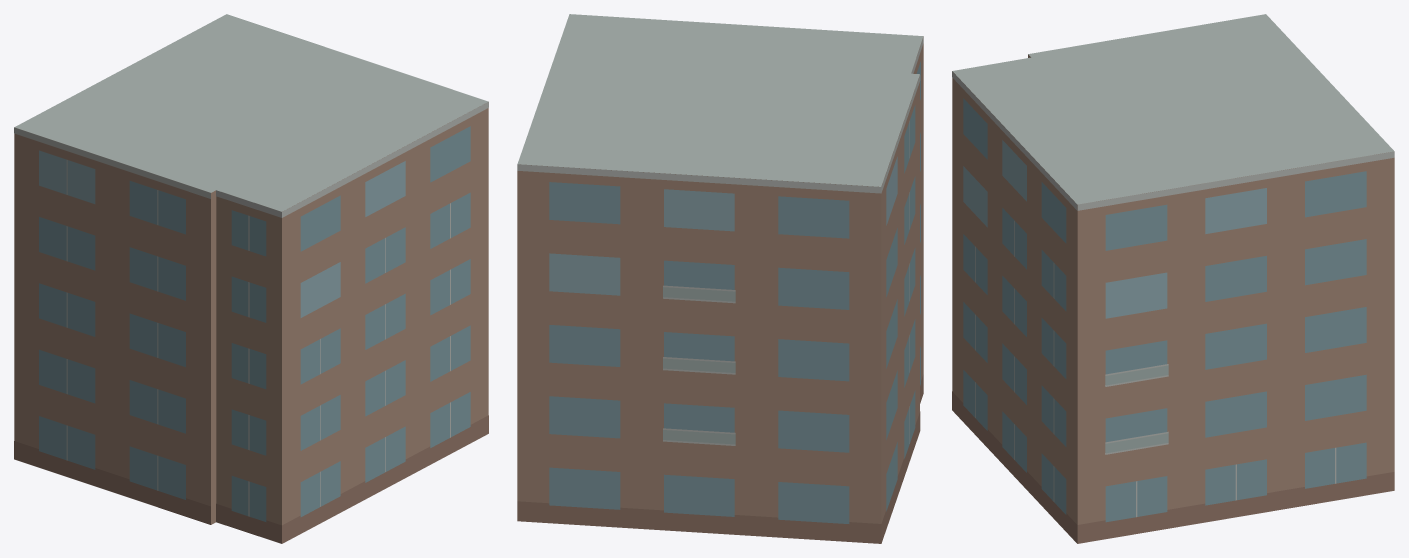
Rendered from survey-upis-32945383.glb.
3 views of the same model, side by side, from view 1: azimuth 30°, elevation 25°; view 2: azimuth 150°, elevation 25°; view 3: azimuth 270°, elevation 25° (orthographic). The views are drawn at different scales.
Visible parts, largest first — view 1: survey-upis-32945383.tmp; view 2: survey-upis-32945383.tmp; view 3: survey-upis-32945383.tmp.
Boxes of the visible parts, bbox=[...] form: survey-upis-32945383.tmp: bbox=[14, 14, 488, 543]; survey-upis-32945383.tmp: bbox=[517, 14, 923, 543]; survey-upis-32945383.tmp: bbox=[952, 14, 1394, 543].
Bounding box in the file's own units: 15.92 × 13.2 × 15.61.
